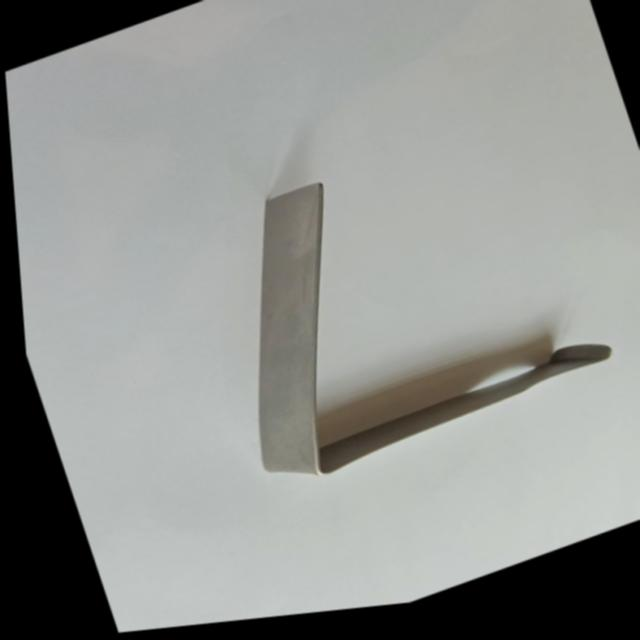AustinRetractor: (158, 94, 633, 510)
